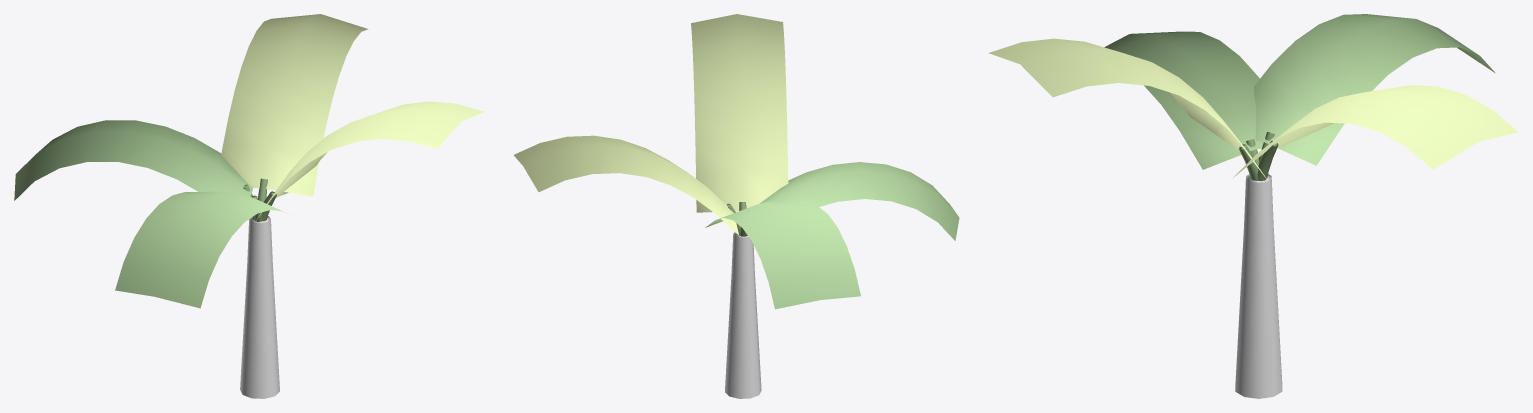
The model's file is plant_banana_a.glb.
The picture shows the model from 3 angles, left to right: view 1: azimuth 30°, elevation 25°; view 2: azimuth 150°, elevation 25°; view 3: azimuth 270°, elevation 25°; orthographic projection. The views are drawn at different scales.
Visible parts, largest first — view 1: plant_broadleaf_0; view 2: plant_broadleaf_0; view 3: plant_broadleaf_0.
Part boxes in pixels (x1,y1,x2,y2): plant_broadleaf_0: (14,14,484,398); plant_broadleaf_0: (514,14,959,398); plant_broadleaf_0: (988,14,1518,398).
Size of the model in its own units: 3.48 by 2.86 by 3.54.
